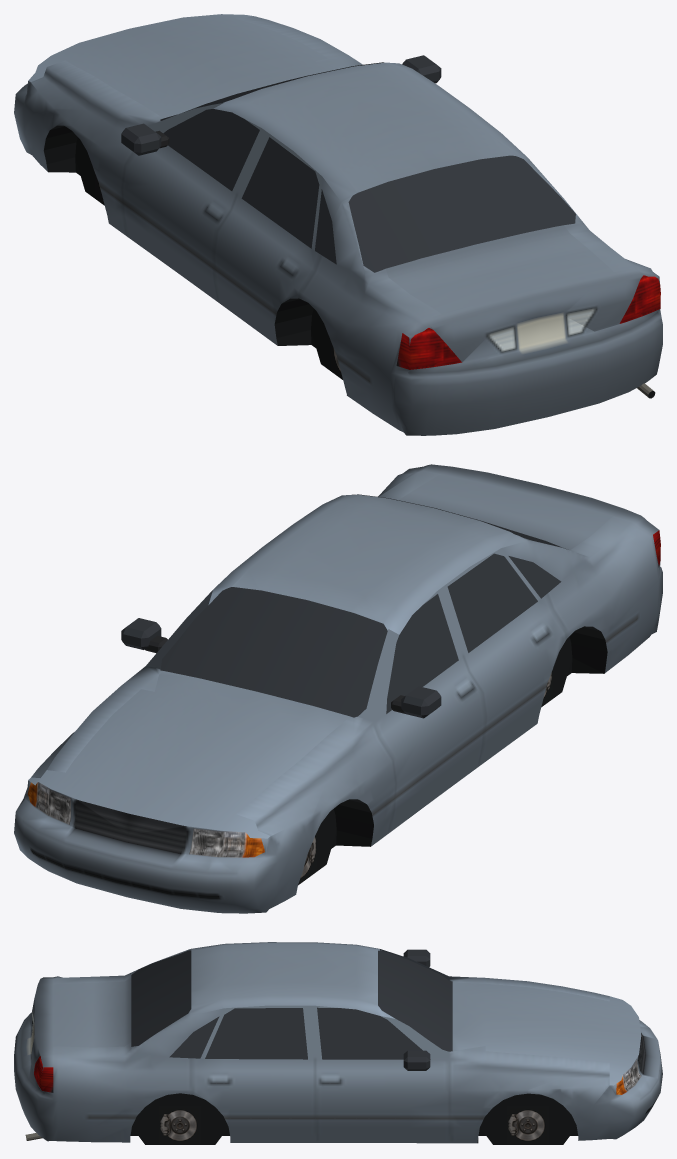
File: crown_victoria.obj
3 renders of one model, top to bottom at view 1: azimuth 30°, elevation 25°; view 2: azimuth 150°, elevation 25°; view 3: azimuth 270°, elevation 25°, orthographic. The views are drawn at different scales.
Visible parts, largest first — view 1: crown_victoria; view 2: crown_victoria; view 3: crown_victoria.
Part boxes in pixels (x1,y1,x2,y2): crown_victoria: [14, 14, 662, 435]; crown_victoria: [14, 464, 662, 913]; crown_victoria: [14, 942, 662, 1144].
Bounding box in the file's own units: 2.18 × 1.32 × 5.38.
Materials: 1 (1 with a texture image).
